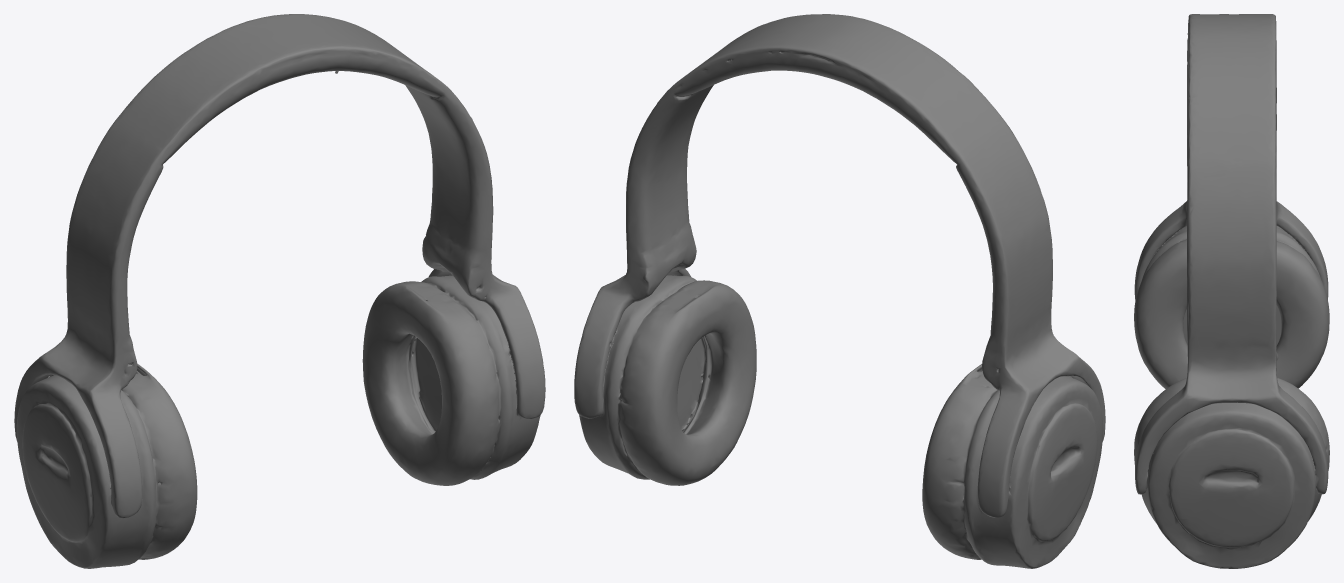
File: headphones.glb
3 renders of one model, left to right at view 1: azimuth 30°, elevation 25°; view 2: azimuth 150°, elevation 25°; view 3: azimuth 270°, elevation 25°, orthographic. The views are drawn at different scales.
Parts seen in each view (by area): view 1: world; view 2: world; view 3: world.
Part boxes in pixels (box(x1,y1,x2,y2)): world: box(14, 14, 545, 568); world: box(574, 14, 1105, 568); world: box(1134, 14, 1329, 568).
Bounding box in the file's own units: 0.9986 × 1 × 0.4002.
Materials: 1 (1 with a texture image).
